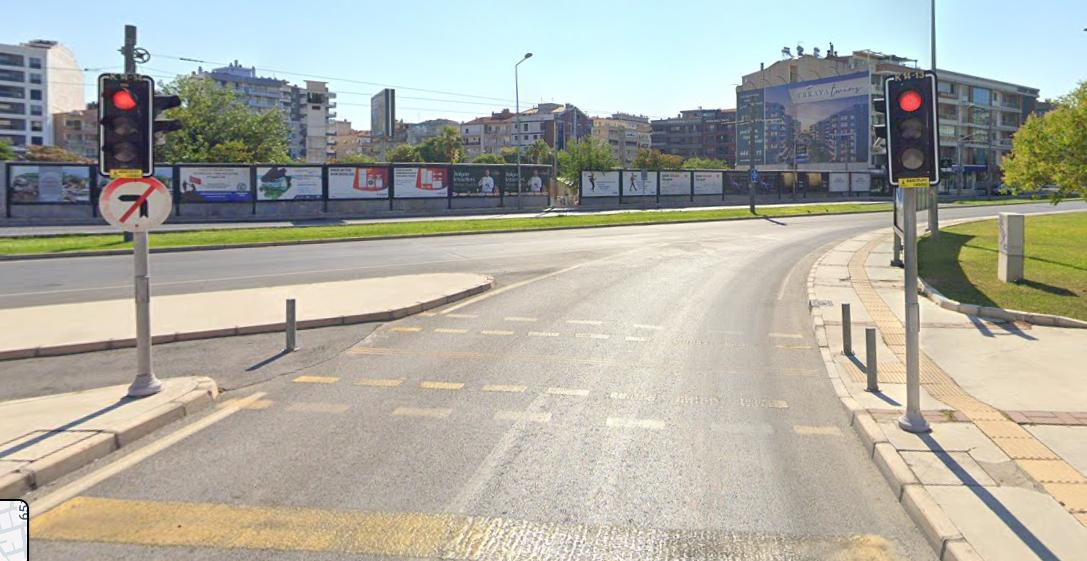redlight: (886, 74, 939, 189), (95, 74, 152, 172)
